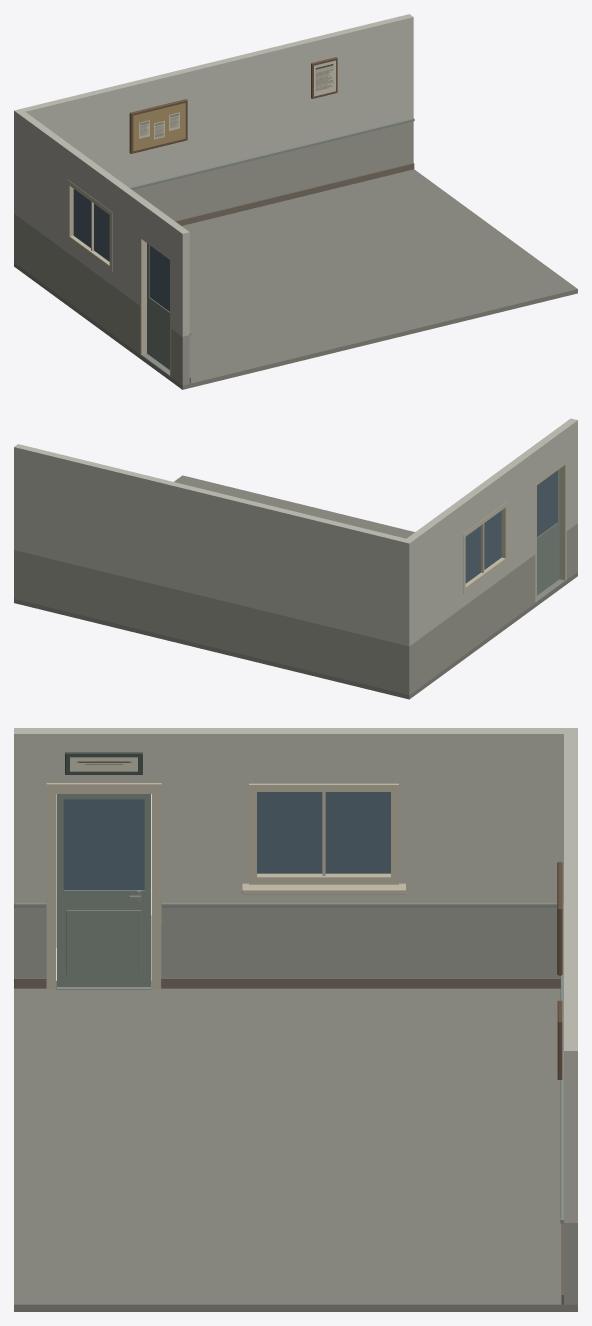
File: Municipal_Architecture.fbx
The picture shows the model from 3 angles, top to bottom: view 1: azimuth 30°, elevation 25°; view 2: azimuth 150°, elevation 25°; view 3: azimuth 270°, elevation 25°; orthographic projection. The views are drawn at different scales.
Parts seen in each view (by area): view 1: Municipal_Floor, Municipal_Back_Wall, Municipal_Left_Wall, Municipal_Window, Municipal_Entrance_Door, Municipal_PublicNoticeboard, Municipal_Baseboards, Municipal_Entrance_Frame, Municipal_Wall_Trim, Municipal_FramedNotice; view 2: Municipal_Back_Wall, Municipal_Left_Wall, Municipal_Floor, Municipal_Window, Municipal_Entrance_Door, Municipal_Entrance_Frame; view 3: Municipal_Floor, Municipal_Left_Wall, Municipal_Entrance_Door, Municipal_Window, Municipal_Back_Wall, Municipal_Wall_Trim, Municipal_Baseboards, Municipal_Entrance_Frame, Municipal_InformationSign.
Part boxes in pixels (x1,y1,x2,y2): Municipal_Floor: (14,169,577,389); Municipal_Back_Wall: (14,14,413,264); Municipal_Left_Wall: (18,112,189,385); Municipal_Window: (67,179,112,271); Municipal_Entrance_Door: (147,243,169,369); Municipal_PublicNoticeboard: (129,99,187,153); Municipal_Baseboards: (175,163,414,383); Municipal_Entrance_Frame: (140,235,171,376); Municipal_Wall_Trim: (129,118,414,335); Municipal_FramedNotice: (311,57,337,98); Municipal_Back_Wall: (14,444,413,695); Municipal_Left_Wall: (406,418,577,691); Municipal_Floor: (14,475,577,699); Municipal_Window: (463,501,507,593); Municipal_Entrance_Door: (537,469,559,595); Municipal_Entrance_Frame: (535,461,566,602); Municipal_Floor: (14,988,577,1311); Municipal_Left_Wall: (14,728,563,977); Municipal_Entrance_Door: (57,794,150,986); Municipal_Window: (242,783,405,894); Municipal_Back_Wall: (564,728,577,1304); Municipal_Wall_Trim: (14,783,563,1223); Municipal_Baseboards: (14,977,563,1304); Municipal_Entrance_Frame: (52,791,156,989); Municipal_InformationSign: (65,752,142,774).
Bounding box in the file's own units: 7.64 × 2.88 × 5.64.
